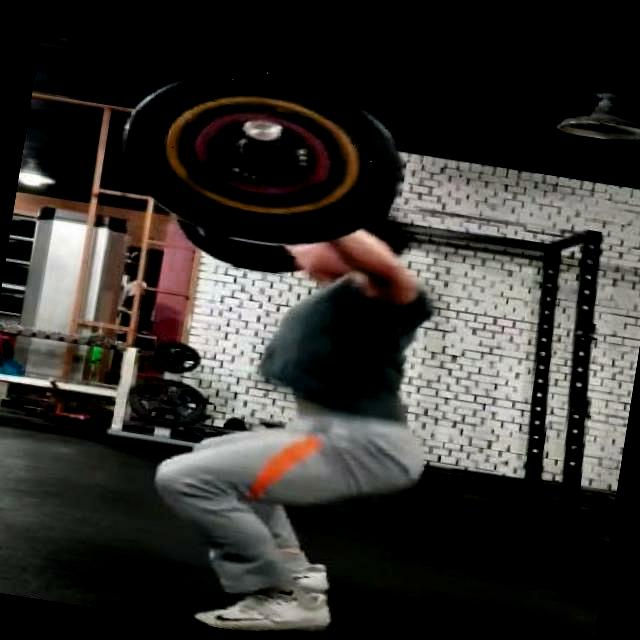barbell: (103, 46, 427, 267)
